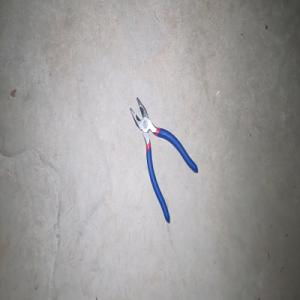Pliers: (129, 96, 198, 223)
